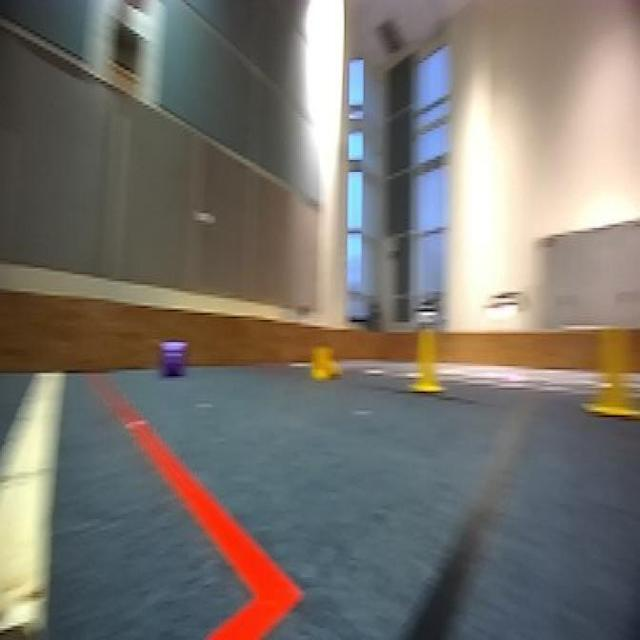frc_cone: (579, 323, 640, 417), (404, 324, 448, 394), (308, 344, 346, 383)
frc_cube: (160, 335, 188, 378)
